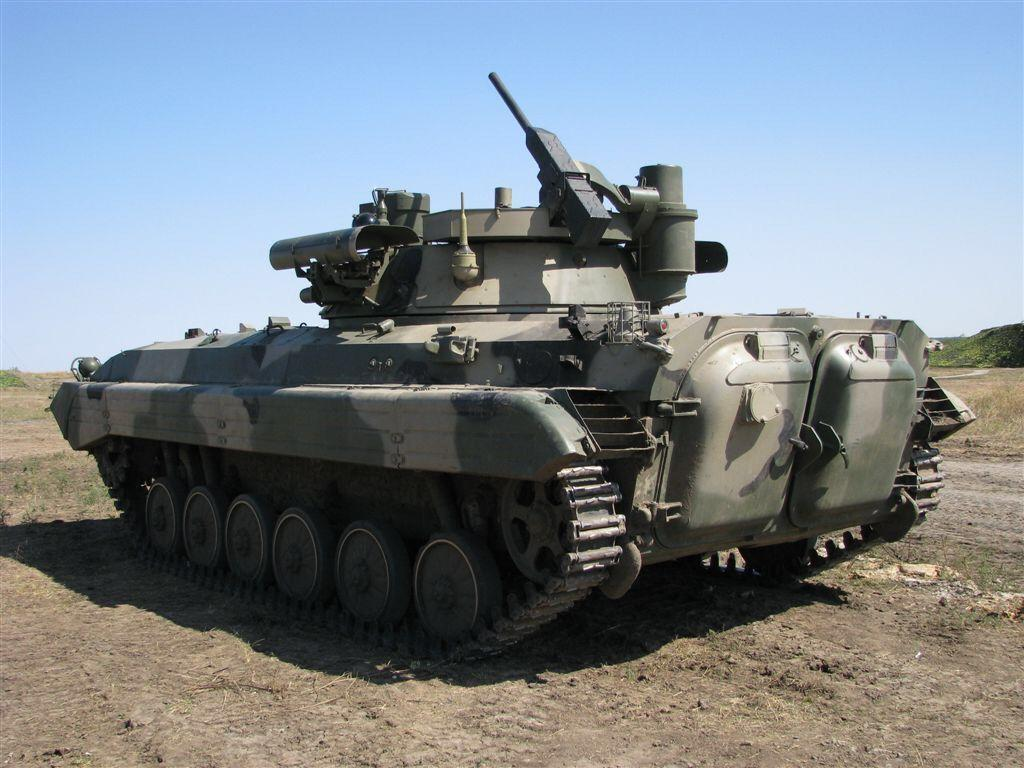tank: (45, 70, 979, 666)
